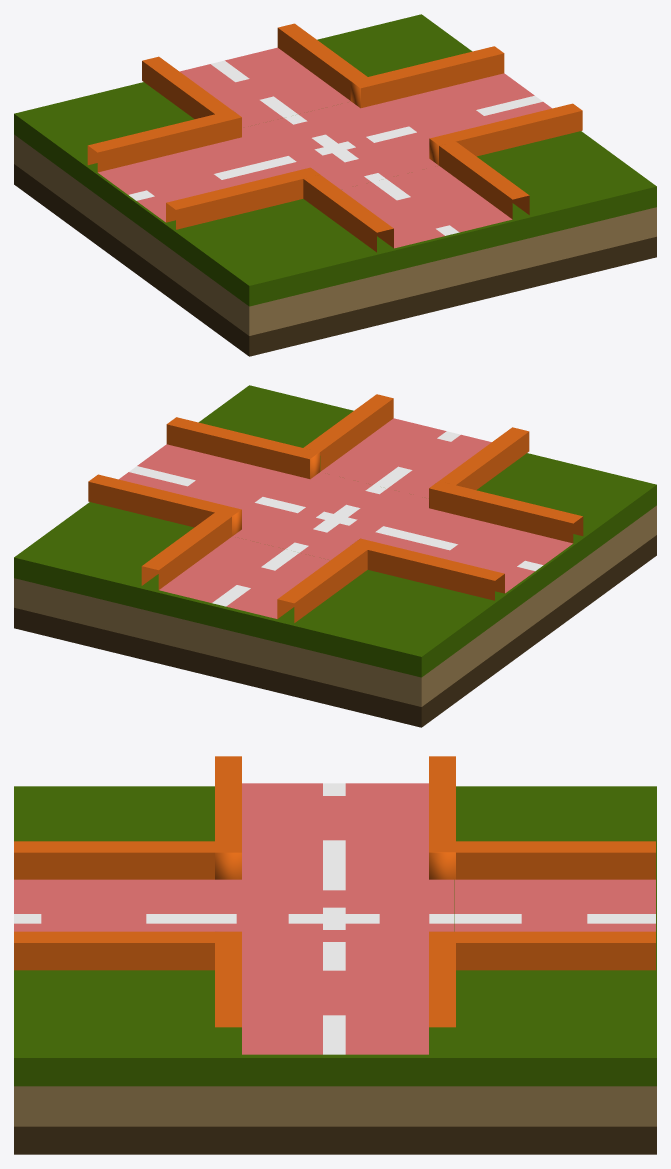
Rendered from foursides bike road.fbx.
3 views of the same model, one above another, from view 1: azimuth 30°, elevation 25°; view 2: azimuth 150°, elevation 25°; view 3: azimuth 270°, elevation 25° (orthographic). The views are drawn at different scales.
Visible parts, largest first — view 1: road ground.003; view 2: road ground.003; view 3: road ground.003.
Part boxes in pixels (x1=…): road ground.003: x1=14, y1=14, x2=656, y2=356; road ground.003: x1=14, y1=385, x2=656, y2=727; road ground.003: x1=14, y1=756, x2=656, y2=1154.
Size of the model in its own units: 200 by 43.47 by 200.
